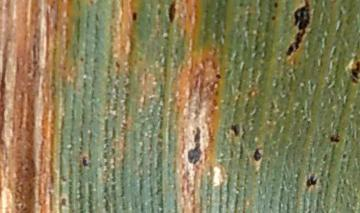tarspot: (285, 1, 313, 58), (186, 125, 204, 167), (349, 58, 360, 84), (166, 1, 178, 24), (304, 173, 318, 188), (228, 121, 239, 140), (329, 131, 340, 146), (253, 145, 262, 163), (240, 123, 247, 141), (238, 141, 244, 160), (59, 196, 68, 207), (81, 155, 88, 168), (214, 71, 223, 81), (131, 10, 138, 22), (321, 152, 329, 162), (58, 174, 67, 182), (156, 5, 162, 17), (92, 12, 100, 21), (270, 14, 278, 22), (341, 152, 348, 161), (228, 150, 235, 159), (114, 60, 121, 69), (272, 2, 280, 9), (250, 118, 258, 125), (78, 56, 85, 63)
